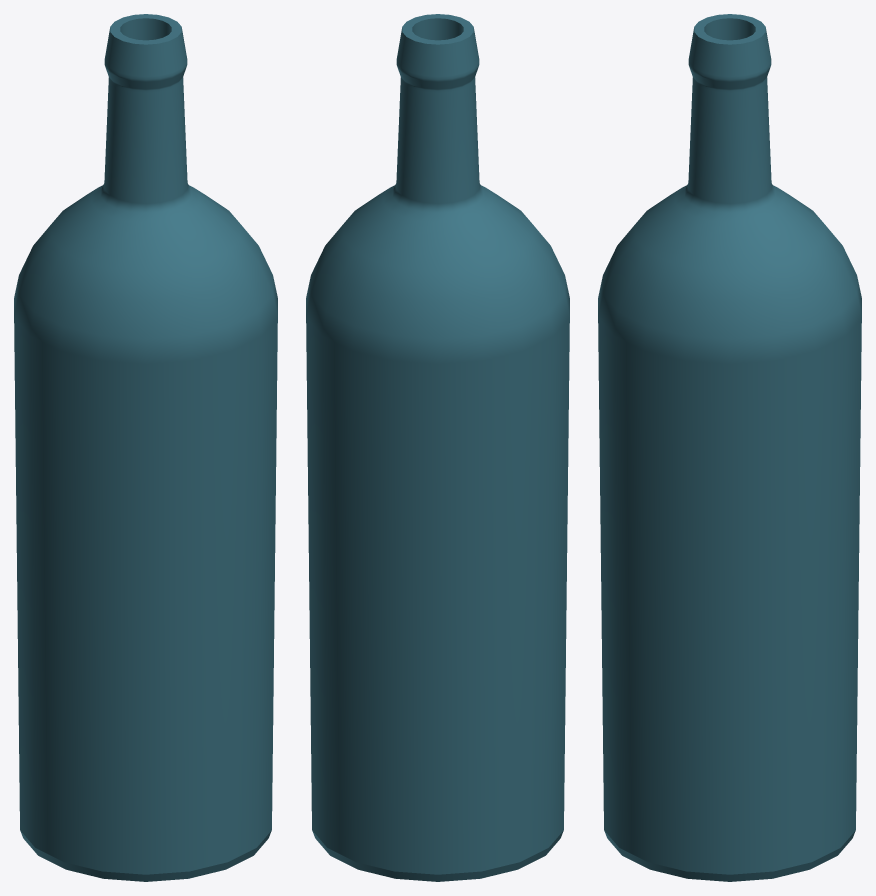
Rendered from SM_SmallTrashkit_Bottle_003.fbx.
3 views of the same model, side by side, from view 1: azimuth 30°, elevation 25°; view 2: azimuth 150°, elevation 25°; view 3: azimuth 270°, elevation 25° (orthographic).
Parts seen in each view (by area): view 1: SM_SmallTrashkit_Bottle_003; view 2: SM_SmallTrashkit_Bottle_003; view 3: SM_SmallTrashkit_Bottle_003.
Boxes of the visible parts, x1,y1,x2,y2 form: SM_SmallTrashkit_Bottle_003: (14, 14, 277, 881); SM_SmallTrashkit_Bottle_003: (306, 14, 569, 881); SM_SmallTrashkit_Bottle_003: (598, 14, 861, 881).
Size of the model in its own units: 16.33 by 54 by 16.08.
